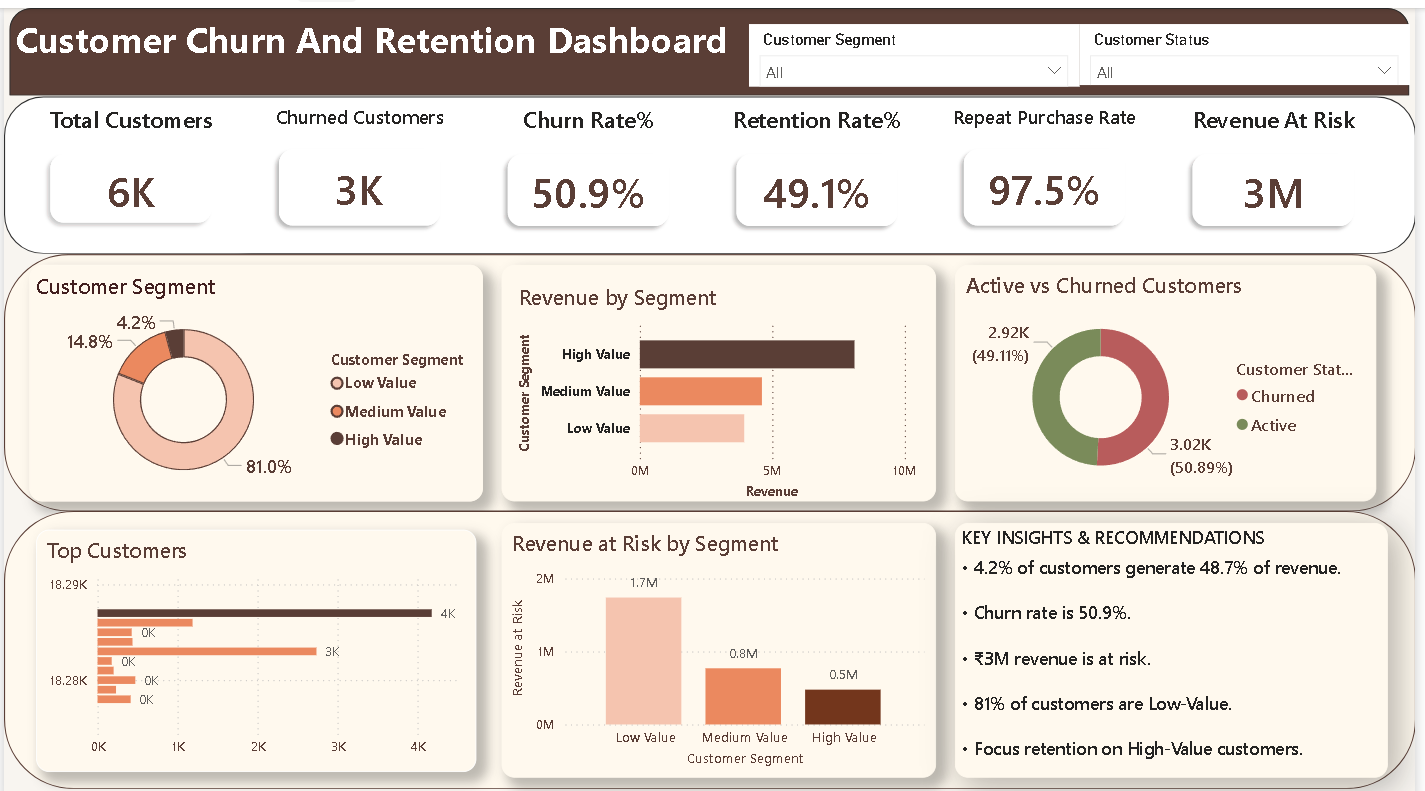

The page's visual inventory and layout, read from the dashboard file:
{"tool":"powerbi","page":{"name":"Page 1","canvas":[1280,720],"ordinal":0},"visuals":[{"type":"shape","title":"CUSTOMER CHURN AND RETENTION DASHBOARD","box":[5.4,0,1269.6,79.6],"z":0},{"type":"shape","box":[0,79.6,1280.4,143],"z":1000},{"type":"cardVisual","title":"Total Customers","fields":{"Data":["Customer Summary.Total Customers"]},"box":[22.9,86.4,184.8,128.2],"z":2000},{"type":"cardVisual","title":"Churned Customers","fields":{"Data":["Customer Summary.Churned Customers"]},"box":[230.2,86.4,184.8,130.9],"z":3000},{"type":"cardVisual","title":"Churn Rate%","fields":{"Data":["Customer Summary.Churn Rate %"]},"box":[437.4,86.4,184.8,130.9],"z":4000},{"type":"cardVisual","title":"Retention Rate%","fields":{"Data":["Customer Summary.Retention Rate %"]},"box":[644.7,86.4,184.8,130.9],"z":5000},{"type":"cardVisual","title":"Repeat Purchase Rate","fields":{"Data":["Customer Summary.Repeat Purchase Rate %"]},"box":[851.9,86.4,184.8,130.9],"z":6000},{"type":"cardVisual","title":"Revenue At Risk","fields":{"Data":["Customer Summary.Revenue at Risk"]},"box":[1059.1,86.4,184.8,130.9],"z":7000},{"type":"shape","box":[0,222.6,1280.4,233.4],"z":8000},{"type":"donutChart","title":"Customer Segment","fields":{"Category":["Customer Summary.Customer Segment"],"Y":["CountNonNull(Customer Summary.customer_id)"]},"box":[22.9,233.4,411.5,214.5],"z":9000},{"type":"barChart","title":" Revenue by  Segment","fields":{"Y":["Sum(Customer Summary.Revenue)"],"Category":["Customer Summary.Customer Segment"]},"box":[450.6,233.4,394,214.5],"z":10000},{"type":"donutChart","title":"Active vs Churned Customers","fields":{"Category":["Customer Summary.Customer Status"],"Y":["Count(Customer Summary.customer_id)"]},"box":[862.2,233.4,381.8,214.5],"z":11000},{"type":"shape","box":[0,456,1280.4,252.3],"z":12000},{"type":"barChart","title":"Top Customers","fields":{"Category":["Customer Summary.customer_id"],"Y":["Sum(Customer Summary.Revenue)"]},"box":[29.7,473.6,399.4,219.9],"z":13000},{"type":"columnChart","title":"Revenue at Risk by Segment","fields":{"Category":["Customer Summary.Customer Segment"],"Y":["Customer Summary.Revenue at Risk"]},"box":[450.6,466.8,394,230.7],"z":14000},{"type":"textbox","title":"KEY INSIGHTS & RECOMMENDATIONS","box":[862.2,466.8,392.6,230.7],"z":15000},{"type":"slicer","fields":{"Values":["Customer Summary.Customer Segment"]},"box":[676,14.8,299.5,56.7],"z":16000},{"type":"slicer","fields":{"Values":["Customer Summary.Customer Status"]},"box":[975.5,14.8,299.5,55.3],"z":17000}]}

Visuals, with their boxes in screenshot pixels (x1, y1, x2, y2), scaled from the page's 1280x720 canvas onto the 1425x791 screenshot:
"CUSTOMER CHURN AND RETENTION DASHBOARD" shape: 6 0 1419 87
shape: 0 87 1424 245
"Total Customers" cardVisual: 25 95 231 236
"Churned Customers" cardVisual: 256 95 462 239
"Churn Rate%" cardVisual: 487 95 693 239
"Retention Rate%" cardVisual: 718 95 923 239
"Repeat Purchase Rate" cardVisual: 948 95 1154 239
"Revenue At Risk" cardVisual: 1179 95 1385 239
shape: 0 245 1424 501
"Customer Segment" donutChart: 25 256 484 492
" Revenue by  Segment" barChart: 502 256 940 492
"Active vs Churned Customers" donutChart: 960 256 1385 492
shape: 0 501 1424 778
"Top Customers" barChart: 33 520 478 762
"Revenue at Risk by Segment" columnChart: 502 513 940 766
"KEY INSIGHTS & RECOMMENDATIONS" textbox: 960 513 1397 766
slicer - Customer Summary.Customer Segment: 753 16 1086 79
slicer - Customer Summary.Customer Status: 1086 16 1419 77
